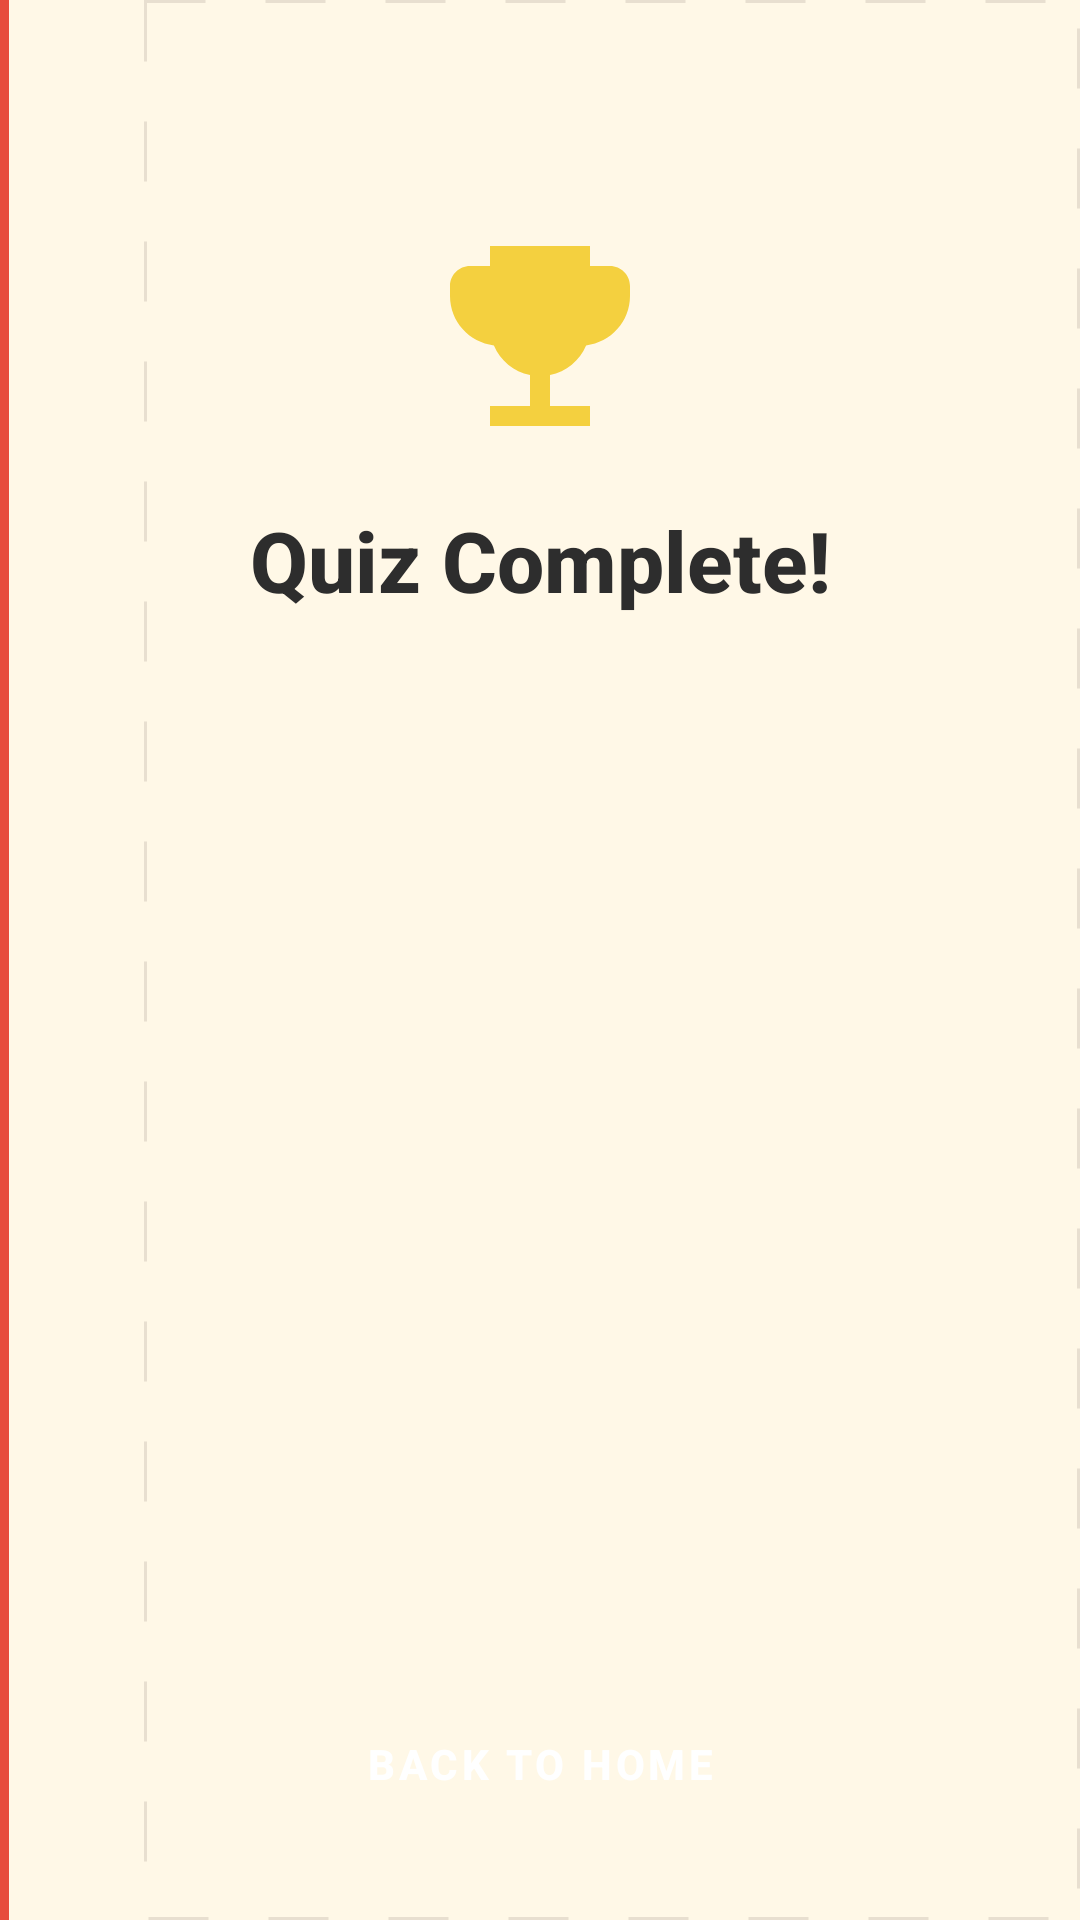

Screen size 1080px×1920px. Icon name, then its center in pixels as (x,y):
trophy: (540,336)
